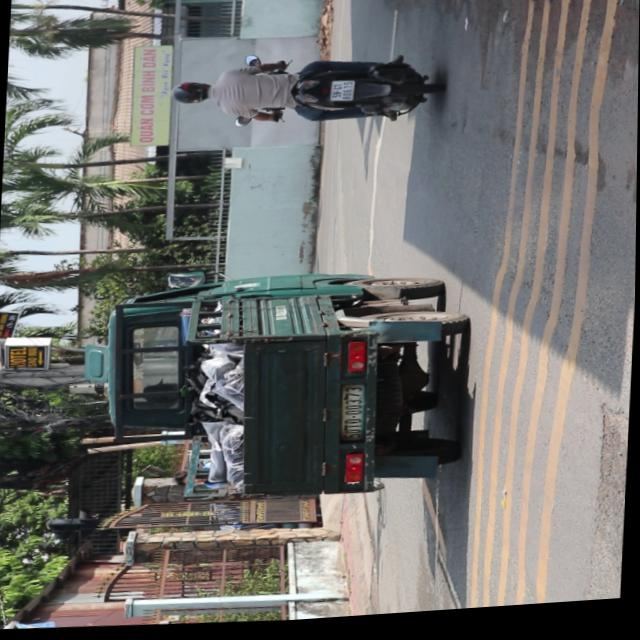helmet: (170, 82, 213, 109)
licenseplate: (166, 50, 441, 143)
nohelmet: (330, 83, 353, 106)
